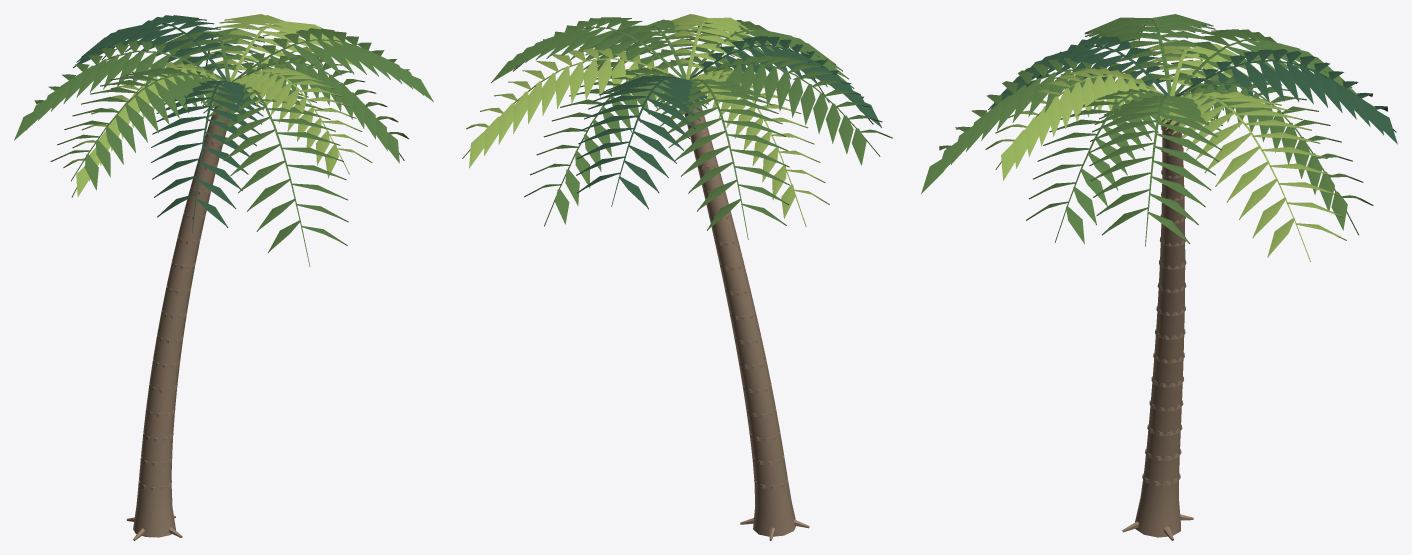
Rendered from tree_coastal_palm_a.glb.
3 renders of one model, left to right at view 1: azimuth 30°, elevation 25°; view 2: azimuth 150°, elevation 25°; view 3: azimuth 270°, elevation 25°, orthographic. The views are drawn at different scales.
Parts seen in each view (by area): view 1: tree_coastal_palm_a_LOD0; view 2: tree_coastal_palm_a_LOD0; view 3: tree_coastal_palm_a_LOD0.
Boxes of the visible parts, box(x1,y1,x2,y2) form: tree_coastal_palm_a_LOD0: box(14, 14, 433, 540); tree_coastal_palm_a_LOD0: box(462, 14, 892, 540); tree_coastal_palm_a_LOD0: box(921, 14, 1397, 540).
Size of what is drawn, in the model's own units: 6.69 by 8.05 by 6.88.
